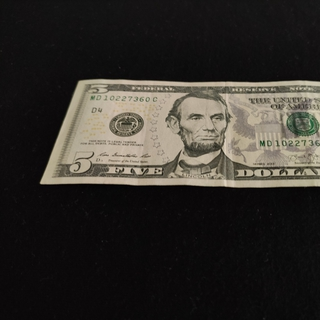5USDFront: (39, 77, 320, 191)
